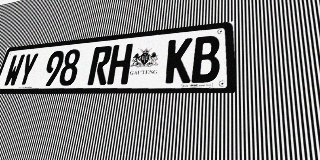8: (57, 48, 82, 86)
9: (41, 50, 66, 86)
B: (191, 35, 220, 83)
H: (107, 43, 133, 85)
K: (165, 38, 193, 83)
R: (87, 45, 113, 85)
W: (3, 54, 25, 87)
Y: (16, 53, 39, 87)
